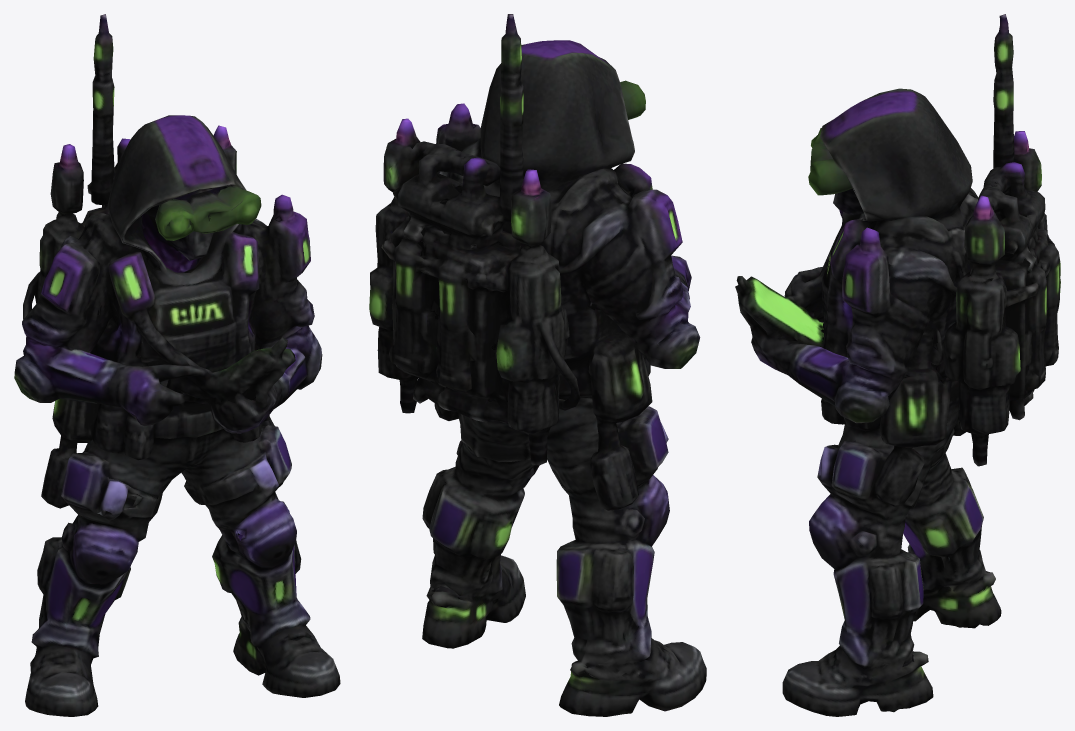
The model's file is recon_l05.glb.
3 renders of one model, left to right at view 1: azimuth 30°, elevation 25°; view 2: azimuth 150°, elevation 25°; view 3: azimuth 270°, elevation 25°, orthographic. The views are drawn at different scales.
Visible parts, largest first — view 1: world; view 2: world; view 3: world.
Boxes of the visible parts, x1,y1,x2,y2 form: world: [14, 14, 340, 716]; world: [369, 14, 706, 716]; world: [735, 14, 1060, 716].
Size of the model in its own units: 0.4512 by 1 by 0.4659.
1 material, 1 textured.
